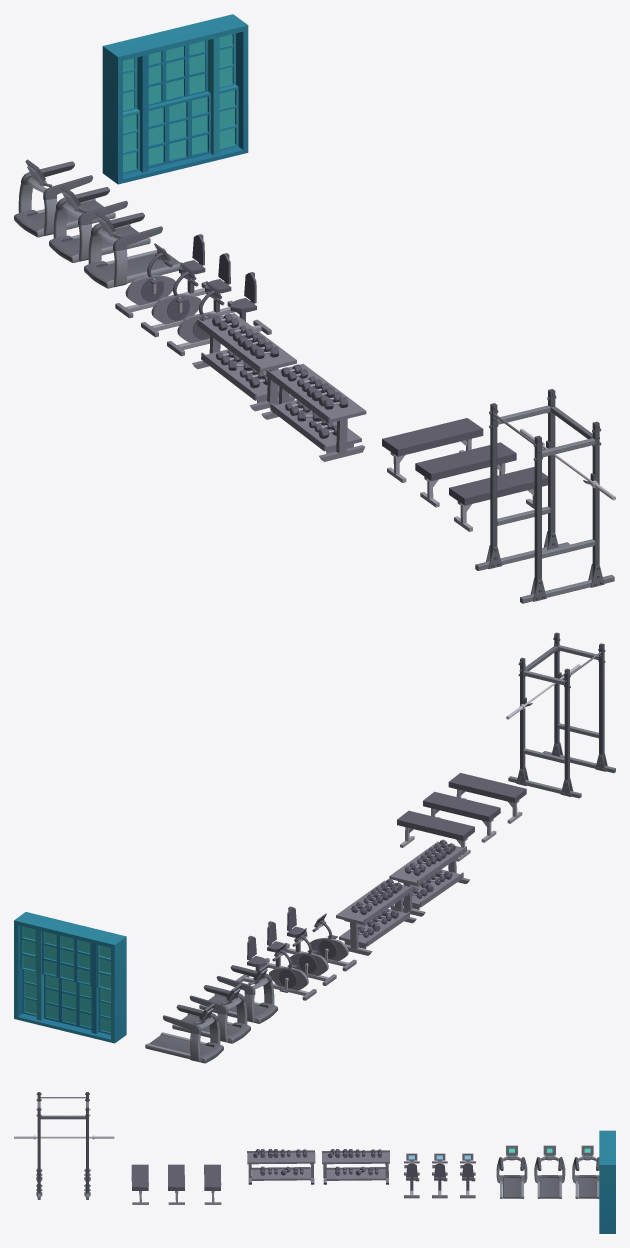
Rendered from Gym_Asstes.fbx.
3 renders of one model, top to bottom at view 1: azimuth 30°, elevation 25°; view 2: azimuth 150°, elevation 25°; view 3: azimuth 270°, elevation 25°, orthographic. The views are drawn at different scales.
Visible parts, largest first — view 1: weightrackreplacment2:gym_26, pasted__Bolt15, weightrackreplacment2:gym_25, weightrackreplacment2:gym_28, weightrackreplacment2:treadmill, weightrackreplacment2:treadmill1, weightrackreplacment2:gym_27, weightrackreplacment2:gym_32, weightrackreplacment2:gym_29, weightrackreplacment2:gym_35, weightrackreplacment2:gym_36, weightrackreplacment2:gym_33 (+1 smaller); view 2: weightrackreplacment2:gym_26, pasted__Bolt15, weightrackreplacment2:gym_28, weightrackreplacment2:gym_25, weightrackreplacment2:gym_27, weightrackreplacment2:treadmill1, weightrackreplacment2:treadmill, weightrackreplacment2:gym_29, weightrackreplacment2:gym_35, weightrackreplacment2:gym_32, weightrackreplacment2:gym_33, weightrackreplacment2:gym_37 (+1 smaller); view 3: weightrackreplacment2:gym_25, weightrackreplacment2:gym_28, weightrackreplacment2:gym_26, pasted__Bolt15, weightrackreplacment2:treadmill1, weightrackreplacment2:treadmill, weightrackreplacment2:gym_27, weightrackreplacment2:gym_37, weightrackreplacment2:gym_35, weightrackreplacment2:gym_36, weightrackreplacment2:gym_29, weightrackreplacment2:gym_32 (+2 smaller).
Boxes of the visible parts, bbox=[...] form: weightrackreplacment2:gym_26: bbox=[102, 14, 248, 184]; pasted__Bolt15: bbox=[475, 389, 614, 603]; weightrackreplacment2:gym_25: bbox=[261, 363, 366, 461]; weightrackreplacment2:gym_28: bbox=[192, 313, 296, 411]; weightrackreplacment2:treadmill: bbox=[84, 210, 179, 288]; weightrackreplacment2:treadmill1: bbox=[49, 185, 150, 262]; weightrackreplacment2:gym_27: bbox=[14, 159, 115, 237]; weightrackreplacment2:gym_32: bbox=[141, 253, 239, 337]; weightrackreplacment2:gym_29: bbox=[115, 234, 206, 318]; weightrackreplacment2:gym_35: bbox=[382, 418, 483, 482]; weightrackreplacment2:gym_36: bbox=[415, 442, 516, 507]; weightrackreplacment2:gym_33: bbox=[167, 272, 271, 356]; weightrackreplacment2:gym_26: bbox=[14, 912, 126, 1043]; pasted__Bolt15: bbox=[508, 632, 615, 798]; weightrackreplacment2:gym_28: bbox=[336, 879, 416, 955]; weightrackreplacment2:gym_25: bbox=[389, 839, 469, 916]; weightrackreplacment2:gym_27: bbox=[145, 1003, 223, 1063]; weightrackreplacment2:treadmill1: bbox=[172, 983, 250, 1043]; weightrackreplacment2:treadmill: bbox=[199, 963, 277, 1023]; weightrackreplacment2:gym_29: bbox=[236, 935, 316, 1000]; weightrackreplacment2:gym_35: bbox=[397, 810, 474, 861]; weightrackreplacment2:gym_32: bbox=[260, 921, 336, 985]; weightrackreplacment2:gym_33: bbox=[286, 906, 356, 971]; weightrackreplacment2:gym_37: bbox=[448, 773, 526, 823]; weightrackreplacment2:gym_25: bbox=[247, 1149, 315, 1184]; weightrackreplacment2:gym_28: bbox=[322, 1149, 389, 1184]; weightrackreplacment2:gym_26: bbox=[599, 1130, 615, 1233]; pasted__Bolt15: bbox=[36, 1092, 90, 1199]; weightrackreplacment2:treadmill1: bbox=[534, 1145, 565, 1198]; weightrackreplacment2:treadmill: bbox=[496, 1145, 527, 1198]; weightrackreplacment2:gym_27: bbox=[572, 1145, 599, 1198]; weightrackreplacment2:gym_37: bbox=[131, 1164, 148, 1204]; weightrackreplacment2:gym_35: bbox=[204, 1164, 221, 1204]; weightrackreplacment2:gym_36: bbox=[168, 1164, 184, 1204]; weightrackreplacment2:gym_29: bbox=[460, 1153, 475, 1198]; weightrackreplacment2:gym_32: bbox=[432, 1153, 447, 1198].
Size of the model in its own units: 14.44 by 8.9 by 55.38.
1 material, 1 textured.
